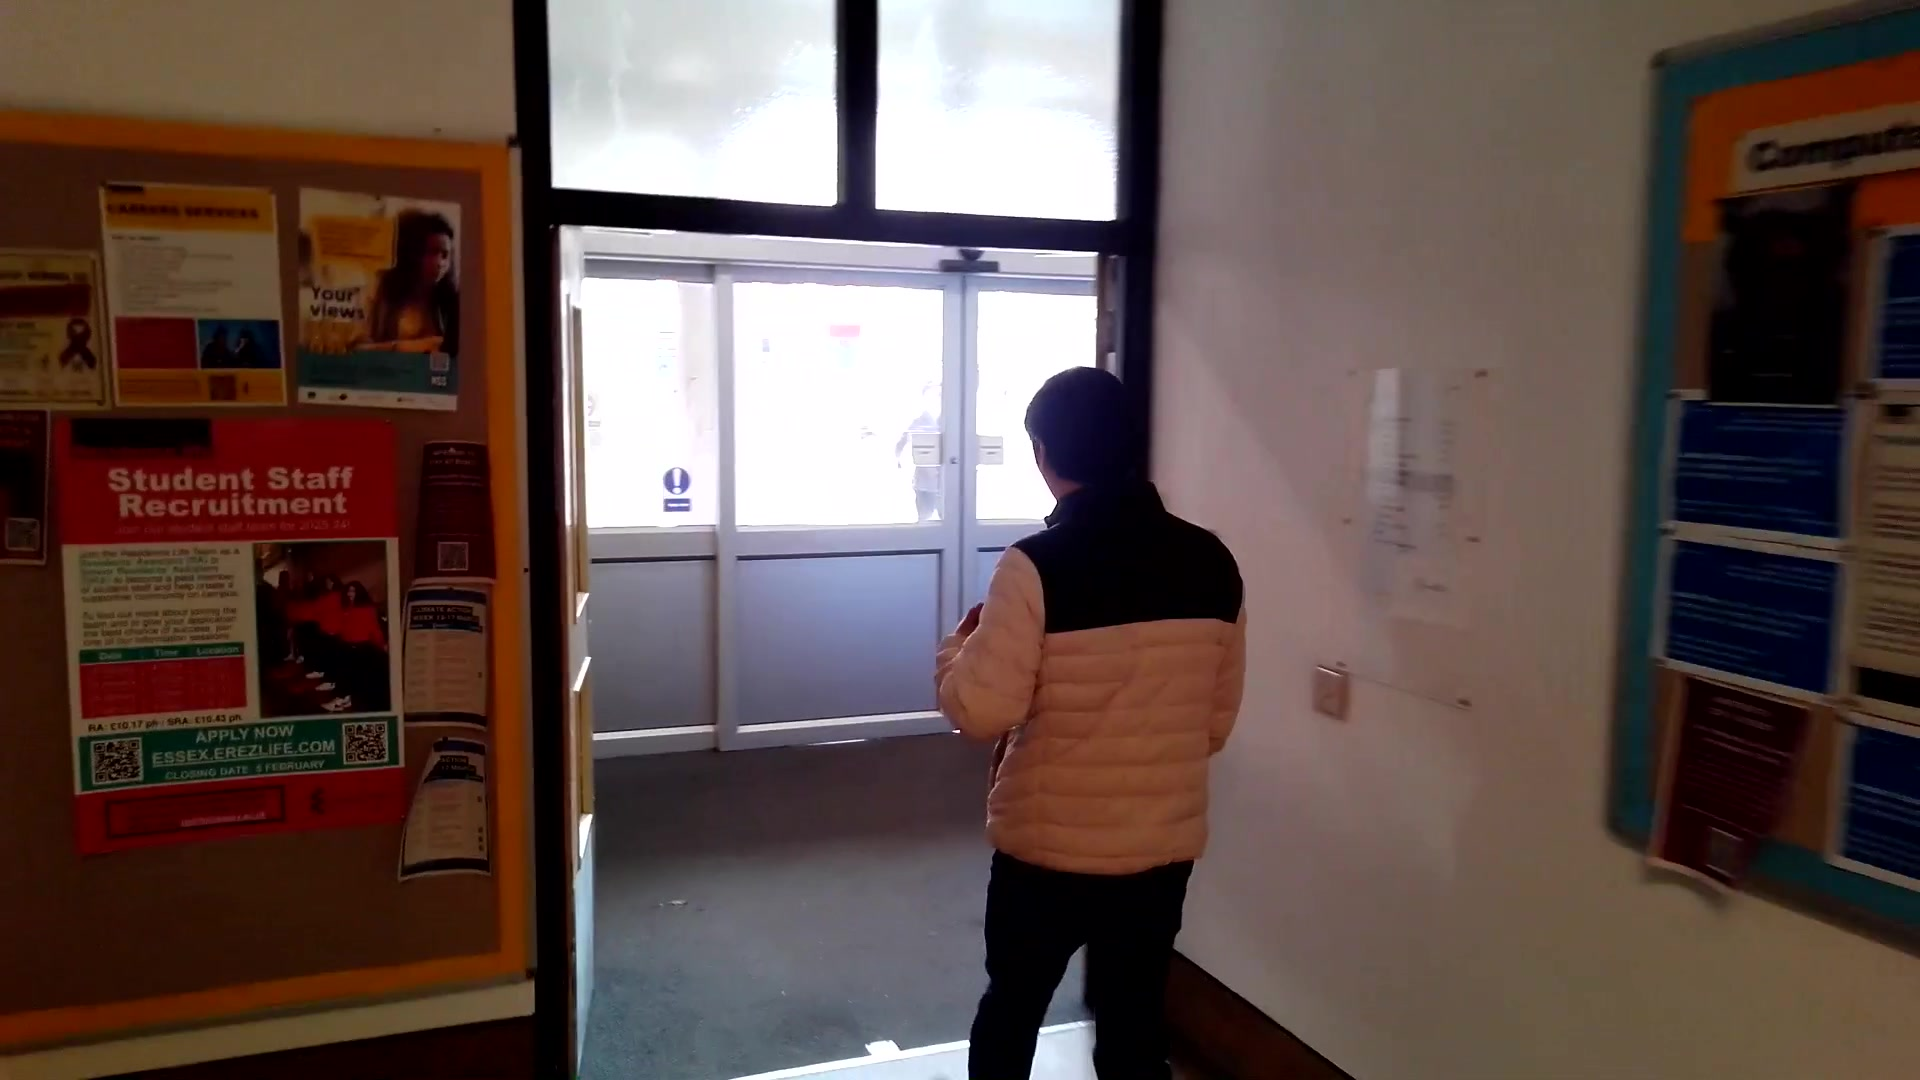Person: (970, 359, 1256, 1080)
